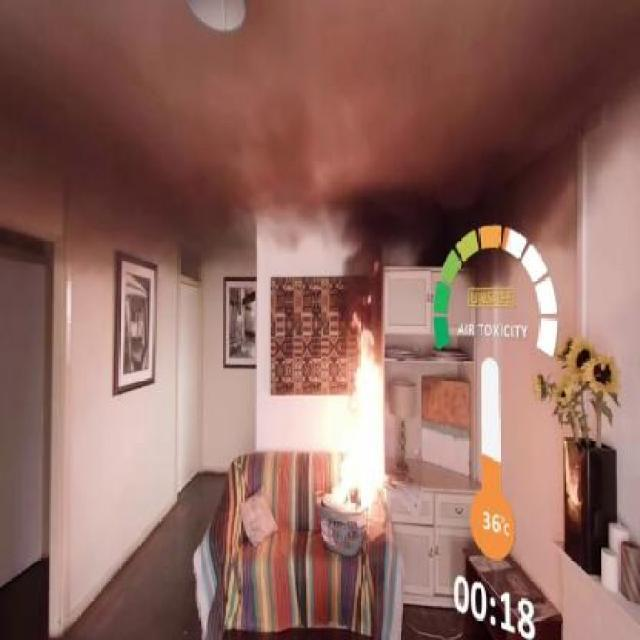fire: (316, 298, 390, 567)
smoke: (289, 162, 474, 260)
